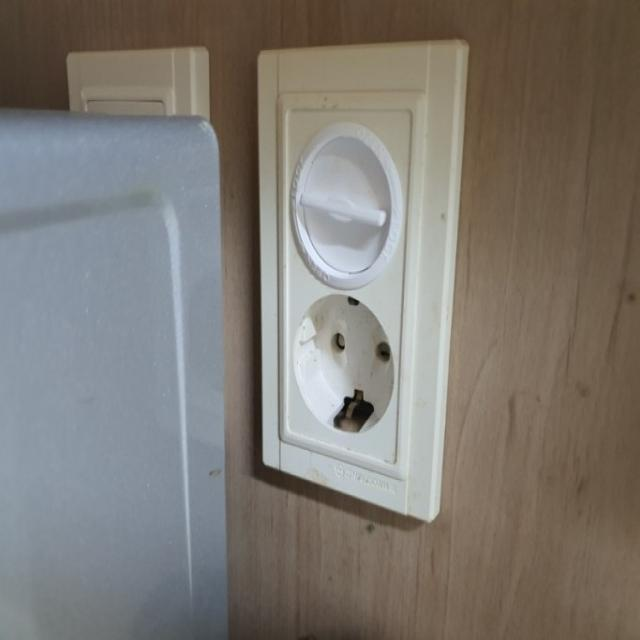typeb: (250, 30, 466, 521)
